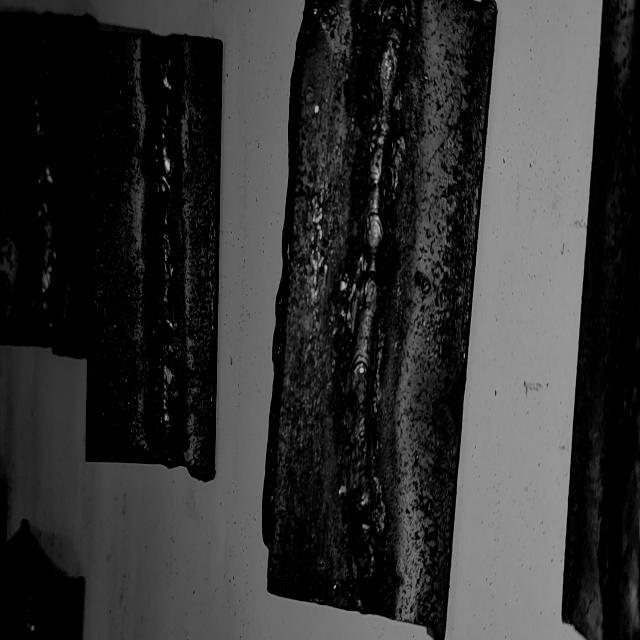Bad Weld: (346, 11, 408, 593), (154, 54, 177, 438), (32, 26, 54, 322)
Defect: (149, 51, 177, 448), (334, 472, 396, 608), (18, 138, 65, 212)
